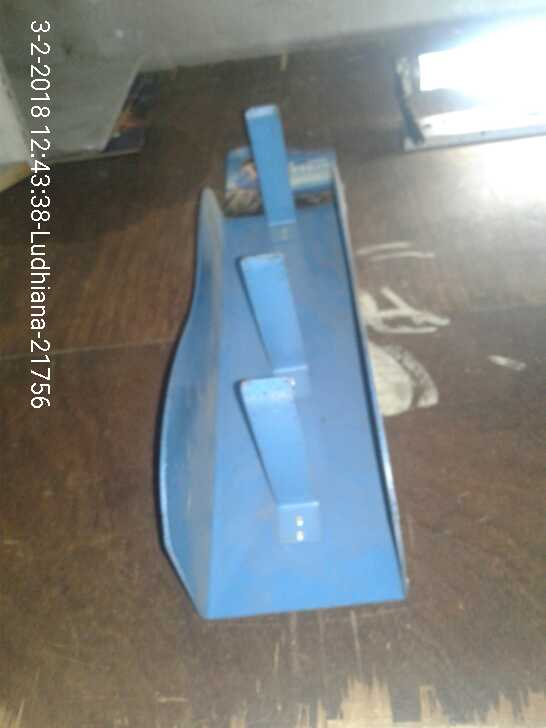reject: (266, 211, 308, 265)
